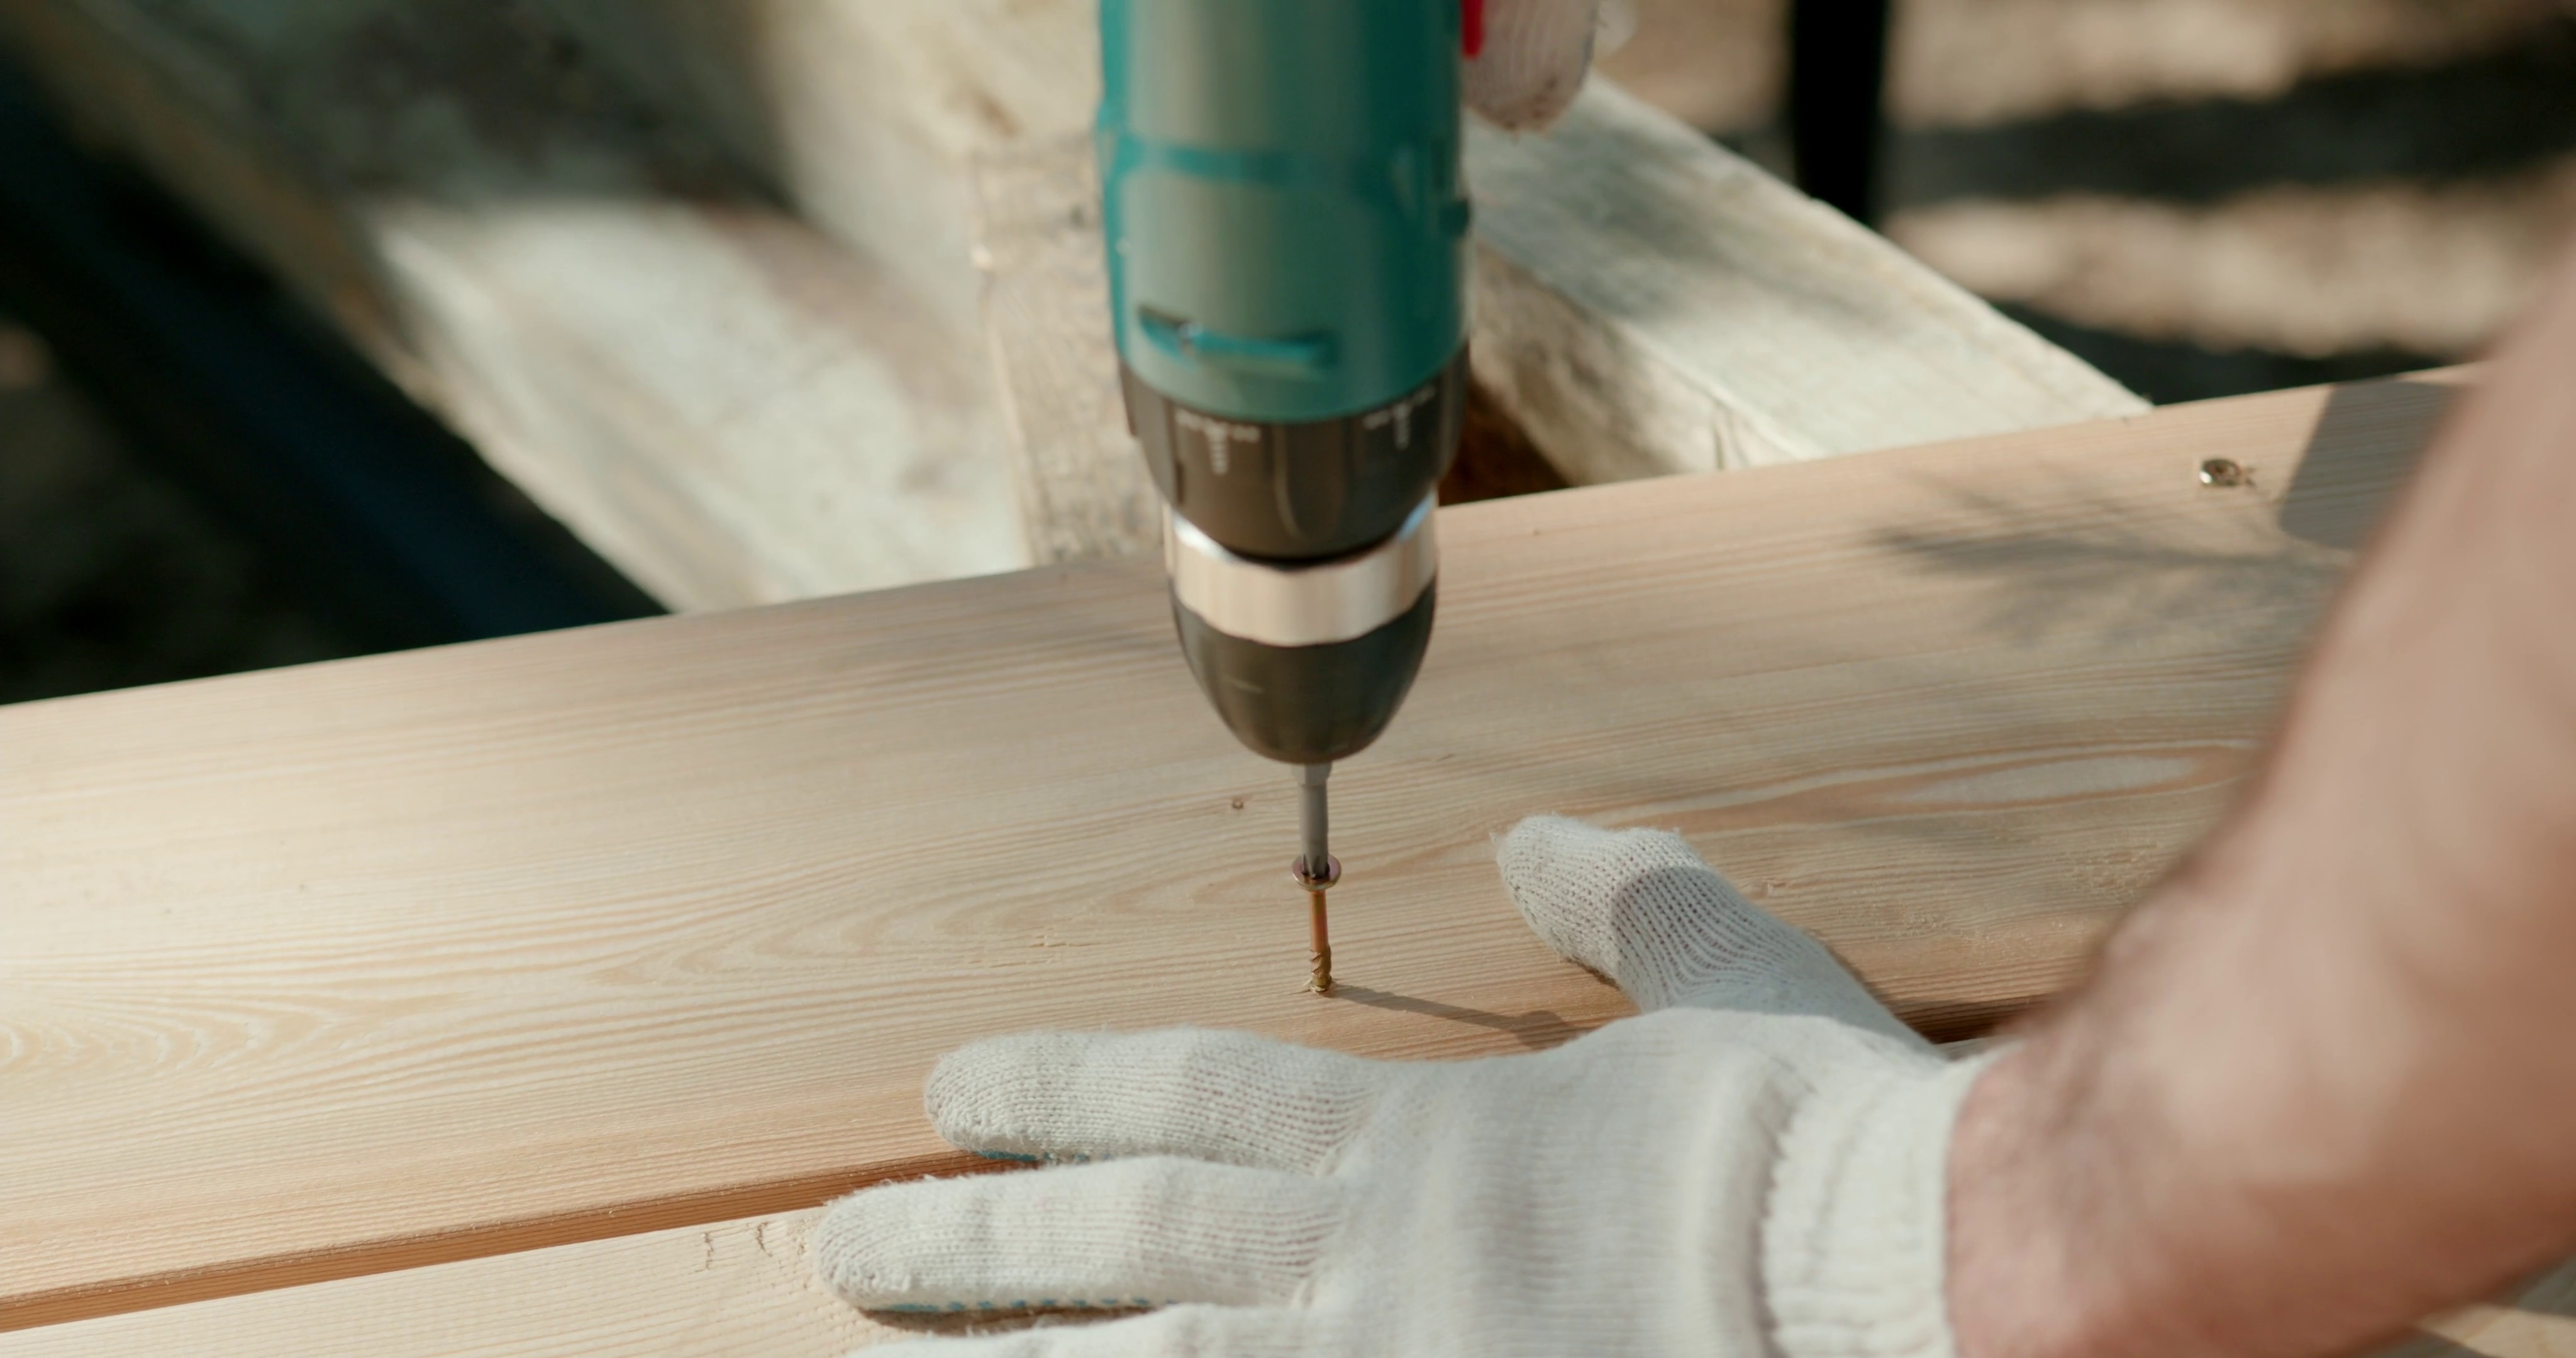driller: (1080, 2, 1487, 878)
